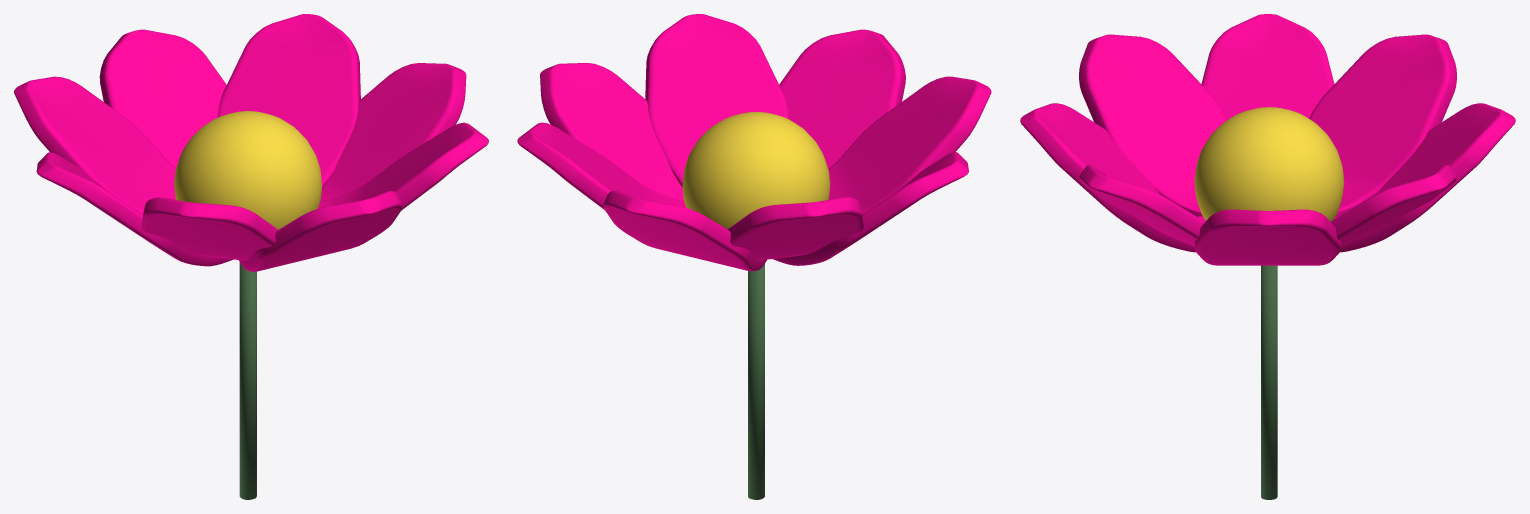
File: flower4.glb
The picture shows the model from 3 angles, left to right: view 1: azimuth 30°, elevation 25°; view 2: azimuth 150°, elevation 25°; view 3: azimuth 270°, elevation 25°; orthographic projection.
Visible parts, largest first — view 1: Cube.005, Sphere, Cube.007, Cube.003, Cube.001, Cube.004, Cube.006, Cube.008, Cube, Cube.002; view 2: Cube.008, Sphere, Cube.006, Cube.004, Cube.001, Cube.003, Cube.007, Cube.005, Cube, Cube.002; view 3: Cube.006, Cube.007, Sphere, Cube.002, Cube.001, Cube.003, Cube.004, Cube, Cube.008, Cube.005.
Boxes of the visible parts, x1,y1,x2,y2 form: Cube.005: [217, 14, 360, 189]; Sphere: [174, 111, 322, 229]; Cube.007: [14, 76, 175, 214]; Cube.003: [99, 29, 226, 167]; Cube.001: [320, 63, 466, 201]; Cube.004: [238, 191, 403, 271]; Cube.006: [142, 197, 277, 260]; Cube.008: [318, 122, 488, 210]; Cube: [239, 262, 256, 499]; Cube.002: [36, 152, 233, 266]; Cube.008: [645, 14, 788, 187]; Sphere: [682, 112, 830, 229]; Cube.006: [828, 76, 991, 213]; Cube.004: [779, 29, 905, 168]; Cube.001: [540, 63, 683, 201]; Cube.003: [603, 190, 766, 271]; Cube.007: [727, 197, 863, 260]; Cube.005: [517, 122, 685, 209]; Cube: [748, 264, 764, 499]; Cube.002: [772, 152, 968, 265]; Cube.006: [1079, 34, 1227, 216]; Cube.007: [1309, 34, 1456, 216]; Sphere: [1194, 107, 1344, 221]; Cube.002: [1201, 14, 1334, 119]; Cube.001: [1194, 209, 1341, 265]; Cube.003: [1340, 103, 1515, 252]; Cube.004: [1020, 103, 1195, 252]; Cube: [1261, 265, 1277, 499]; Cube.008: [1079, 165, 1205, 246]; Cube.005: [1331, 165, 1456, 246].
Bounding box in the file's own units: 0.5664 × 0.4942 × 0.5664.
